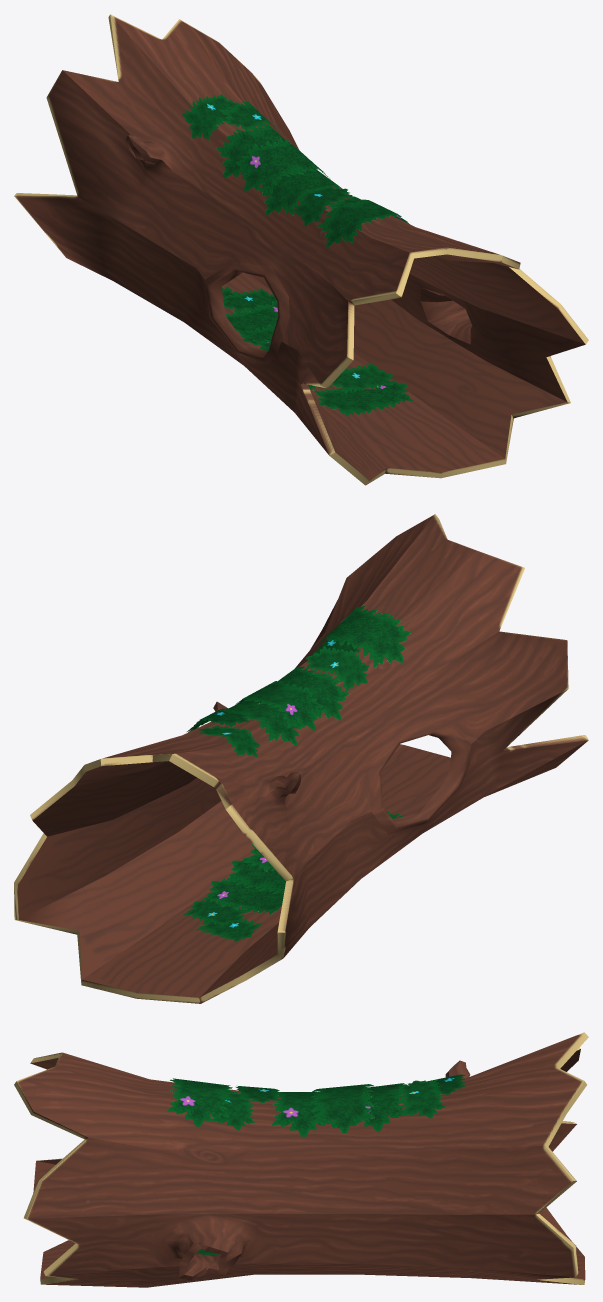
The model's file is TreeSideFin.FBX.
3 views of the same model, one above another, from view 1: azimuth 30°, elevation 25°; view 2: azimuth 150°, elevation 25°; view 3: azimuth 270°, elevation 25° (orthographic). The views are drawn at different scales.
Parts seen in each view (by area): view 1: Cylinder001; view 2: Cylinder001; view 3: Cylinder001.
Boxes of the visible parts, x1,y1,x2,y2 form: Cylinder001: (14, 14, 588, 485); Cylinder001: (14, 514, 588, 1003); Cylinder001: (14, 1032, 588, 1287).
Size of the model in its own units: 1.12 by 2.22 by 0.9421.
Materials: 1 (1 with a texture image).
